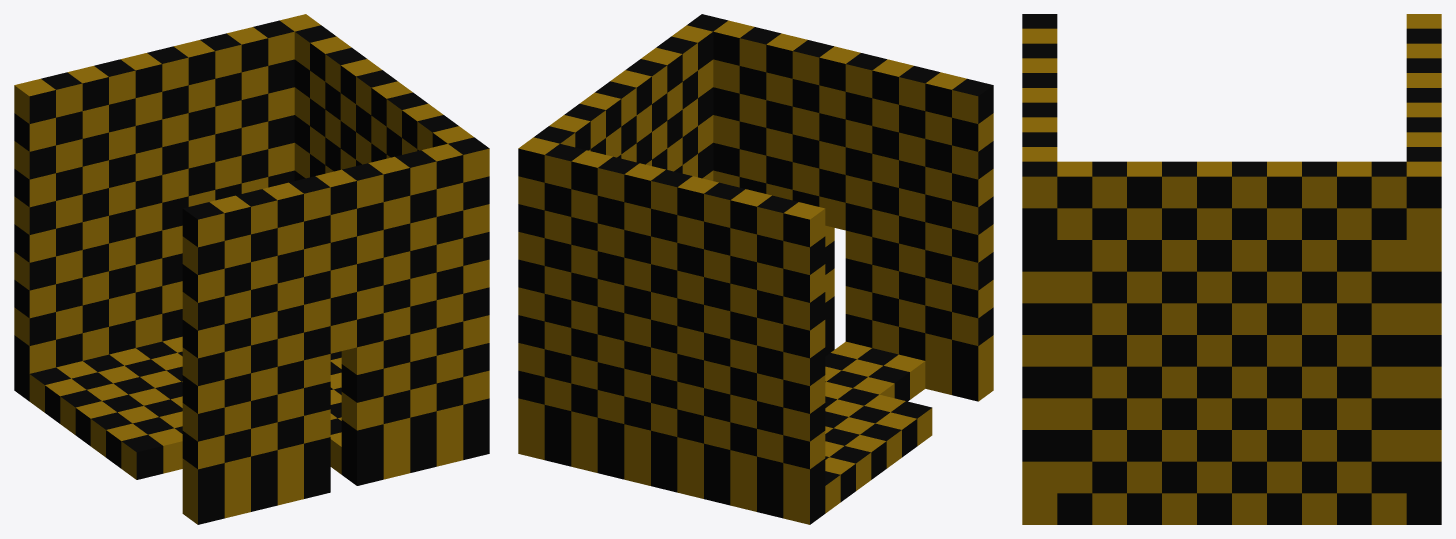
File: 房间挖空.fbx
The picture shows the model from 3 angles, left to right: view 1: azimuth 30°, elevation 25°; view 2: azimuth 150°, elevation 25°; view 3: azimuth 270°, elevation 25°; orthographic projection. The views are drawn at different scales.
Visible parts, largest first — view 1: 房间.005; view 2: 房间.005; view 3: 房间.005.
Boxes of the visible parts, x1,y1,x2,y2 form: 房间.005: (14, 14, 489, 524); 房间.005: (518, 14, 993, 524); 房间.005: (1022, 14, 1441, 524).
Bounding box in the file's own units: 2200 × 2200 × 2400.
